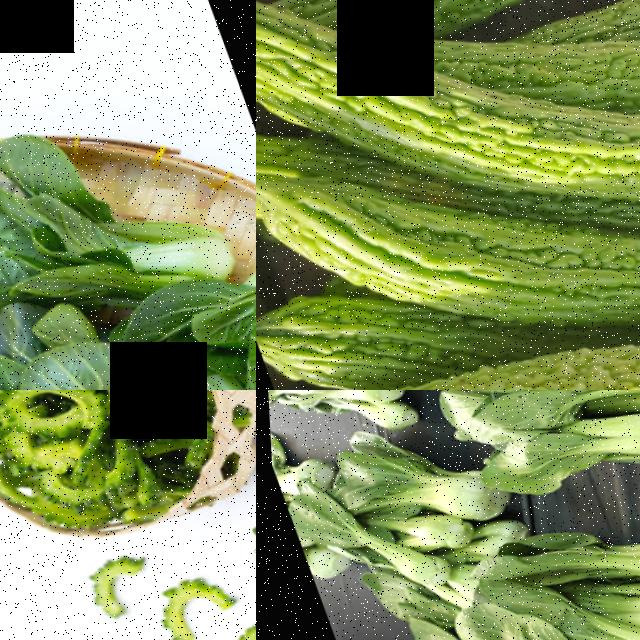bitter gourd: (277, 230, 640, 390), (374, 29, 640, 224), (498, 164, 640, 362), (0, 390, 181, 524), (362, 0, 640, 62), (256, 284, 412, 390)
bok choy: (12, 167, 216, 316), (486, 461, 640, 620), (0, 281, 161, 390), (490, 390, 640, 498), (459, 390, 640, 439), (464, 590, 640, 640), (147, 310, 256, 390)
